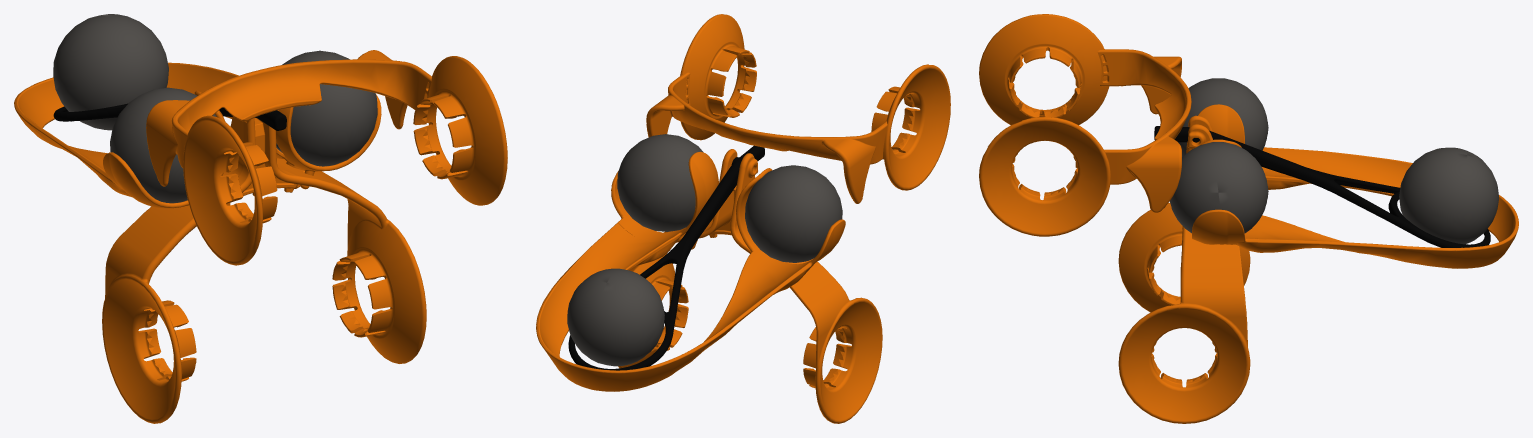
The model's file is launcher.glb.
3 views of the same model, side by side, from view 1: azimuth 30°, elevation 25°; view 2: azimuth 150°, elevation 25°; view 3: azimuth 270°, elevation 25° (orthographic). The views are drawn at different scales.
Parts seen in each view (by area): view 1: launcherRig, ball, launcher; view 2: launcherRig, ball, launcher; view 3: launcherRig, ball, launcher.
Boxes of the visible parts, bbox=[...] form: launcherRig: bbox=[14, 50, 507, 423]; ball: bbox=[53, 14, 168, 130]; launcher: bbox=[53, 103, 286, 130]; launcherRig: bbox=[536, 14, 950, 423]; ball: bbox=[567, 268, 664, 366]; launcher: bbox=[568, 145, 764, 370]; launcherRig: bbox=[979, 14, 1518, 423]; ball: bbox=[1399, 147, 1498, 244]; launcher: bbox=[1154, 126, 1490, 247].
Bounding box in the file's own units: 0.9951 × 1.3 × 2.08.
